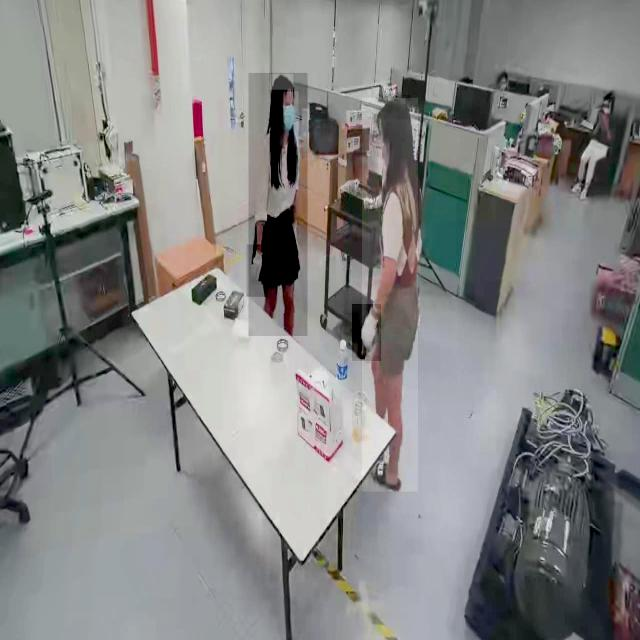face_mask: (275, 92, 299, 146)
hand_glove: (352, 304, 382, 362), (246, 244, 268, 298)
head_nohelmet: (376, 95, 412, 120), (270, 74, 294, 90), (603, 90, 615, 100)
person: (362, 98, 418, 492), (248, 73, 308, 337)
